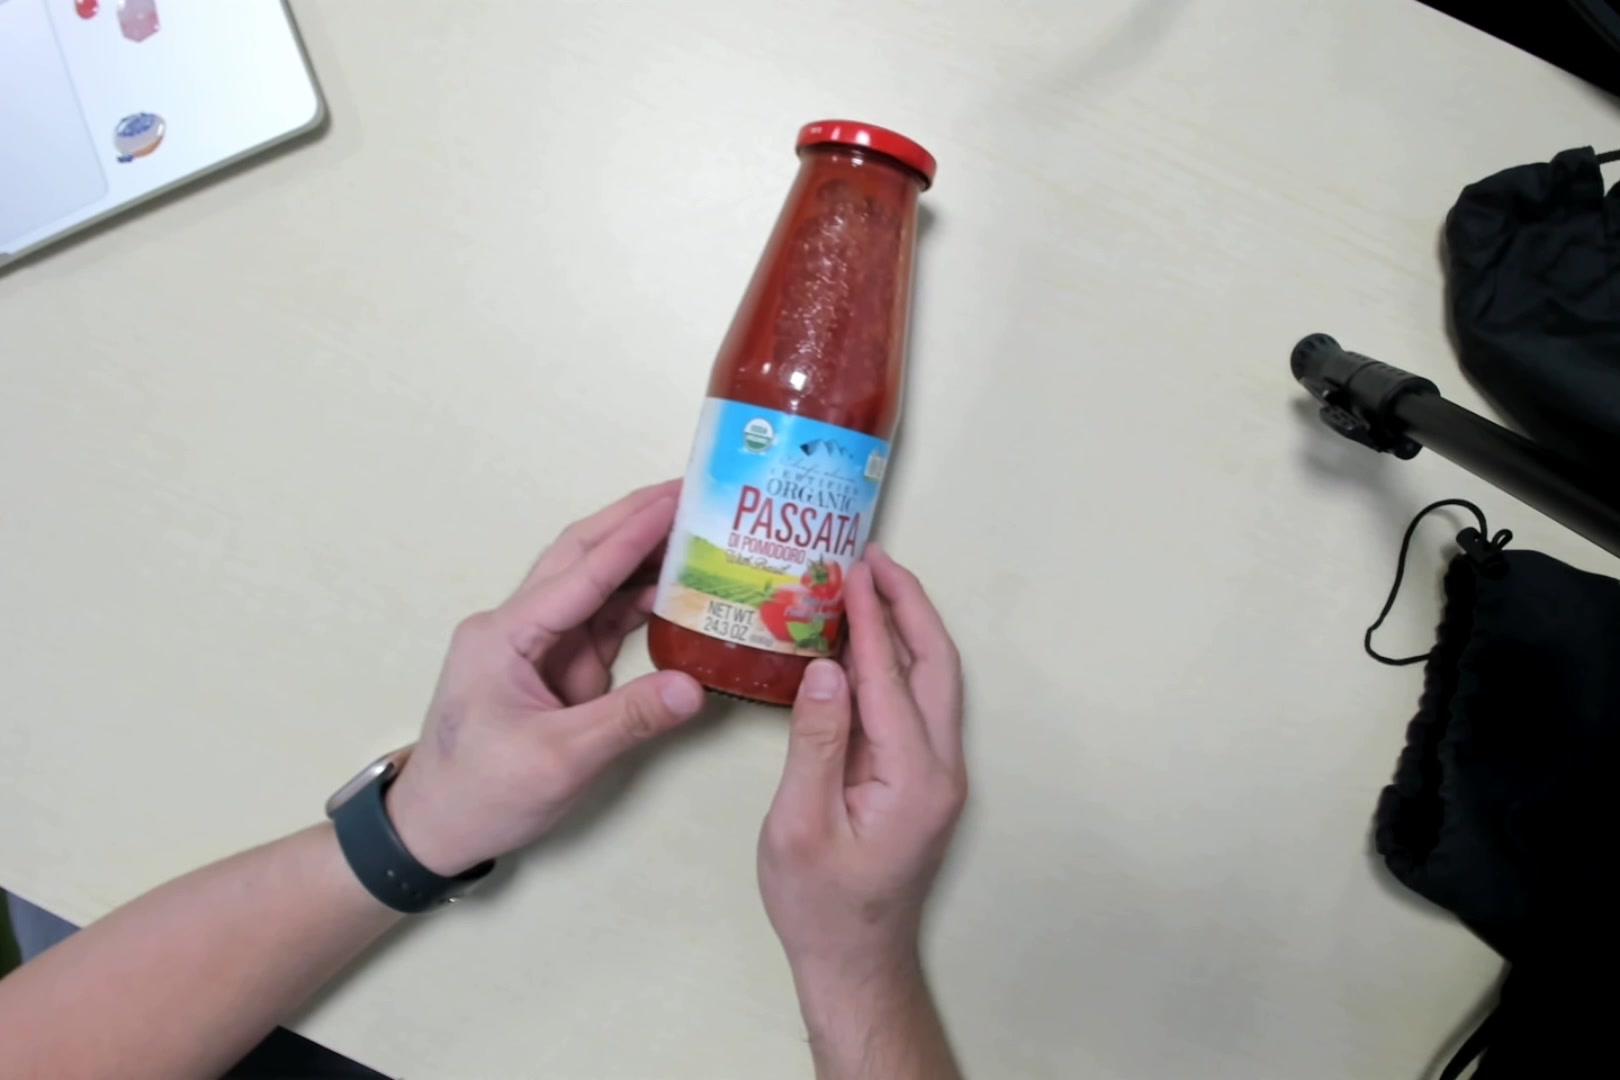PastaSauce_600-699g_NonHalal_NonHealthy: (655, 113, 937, 706)
